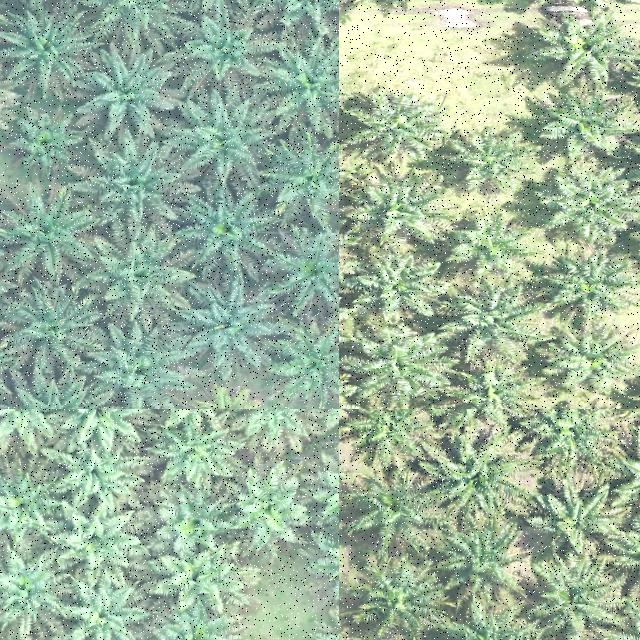Ganoderma: (205, 394, 256, 409)
